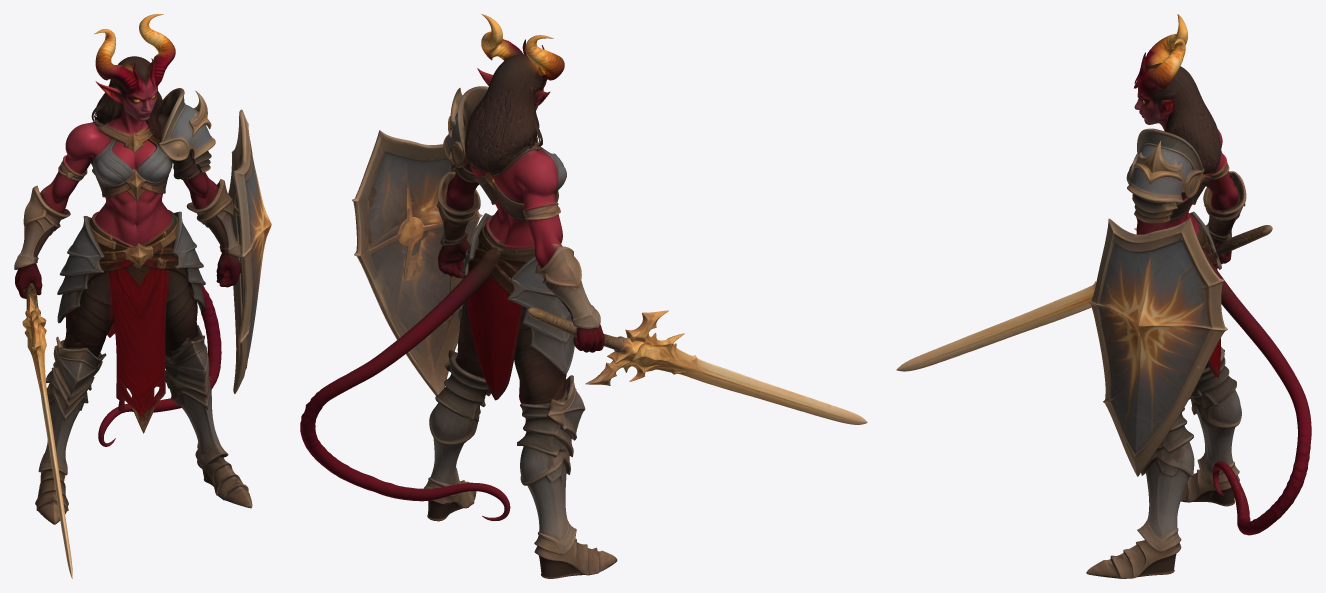
The model's file is tiefling_paladin_full_female_01.glb.
The picture shows the model from 3 angles, left to right: view 1: azimuth 30°, elevation 25°; view 2: azimuth 150°, elevation 25°; view 3: azimuth 270°, elevation 25°; orthographic projection. The views are drawn at different scales.
Parts seen in each view (by area): view 1: material; view 2: material; view 3: material.
Boxes of the visible parts, <box> form: material: <box>14,14,271,578</box>; material: <box>300,14,867,578</box>; material: <box>896,14,1311,578</box>.
Size of the model in its own units: 0.6826 by 0.9427 by 0.6995.
Materials: 1 (1 with a texture image).
